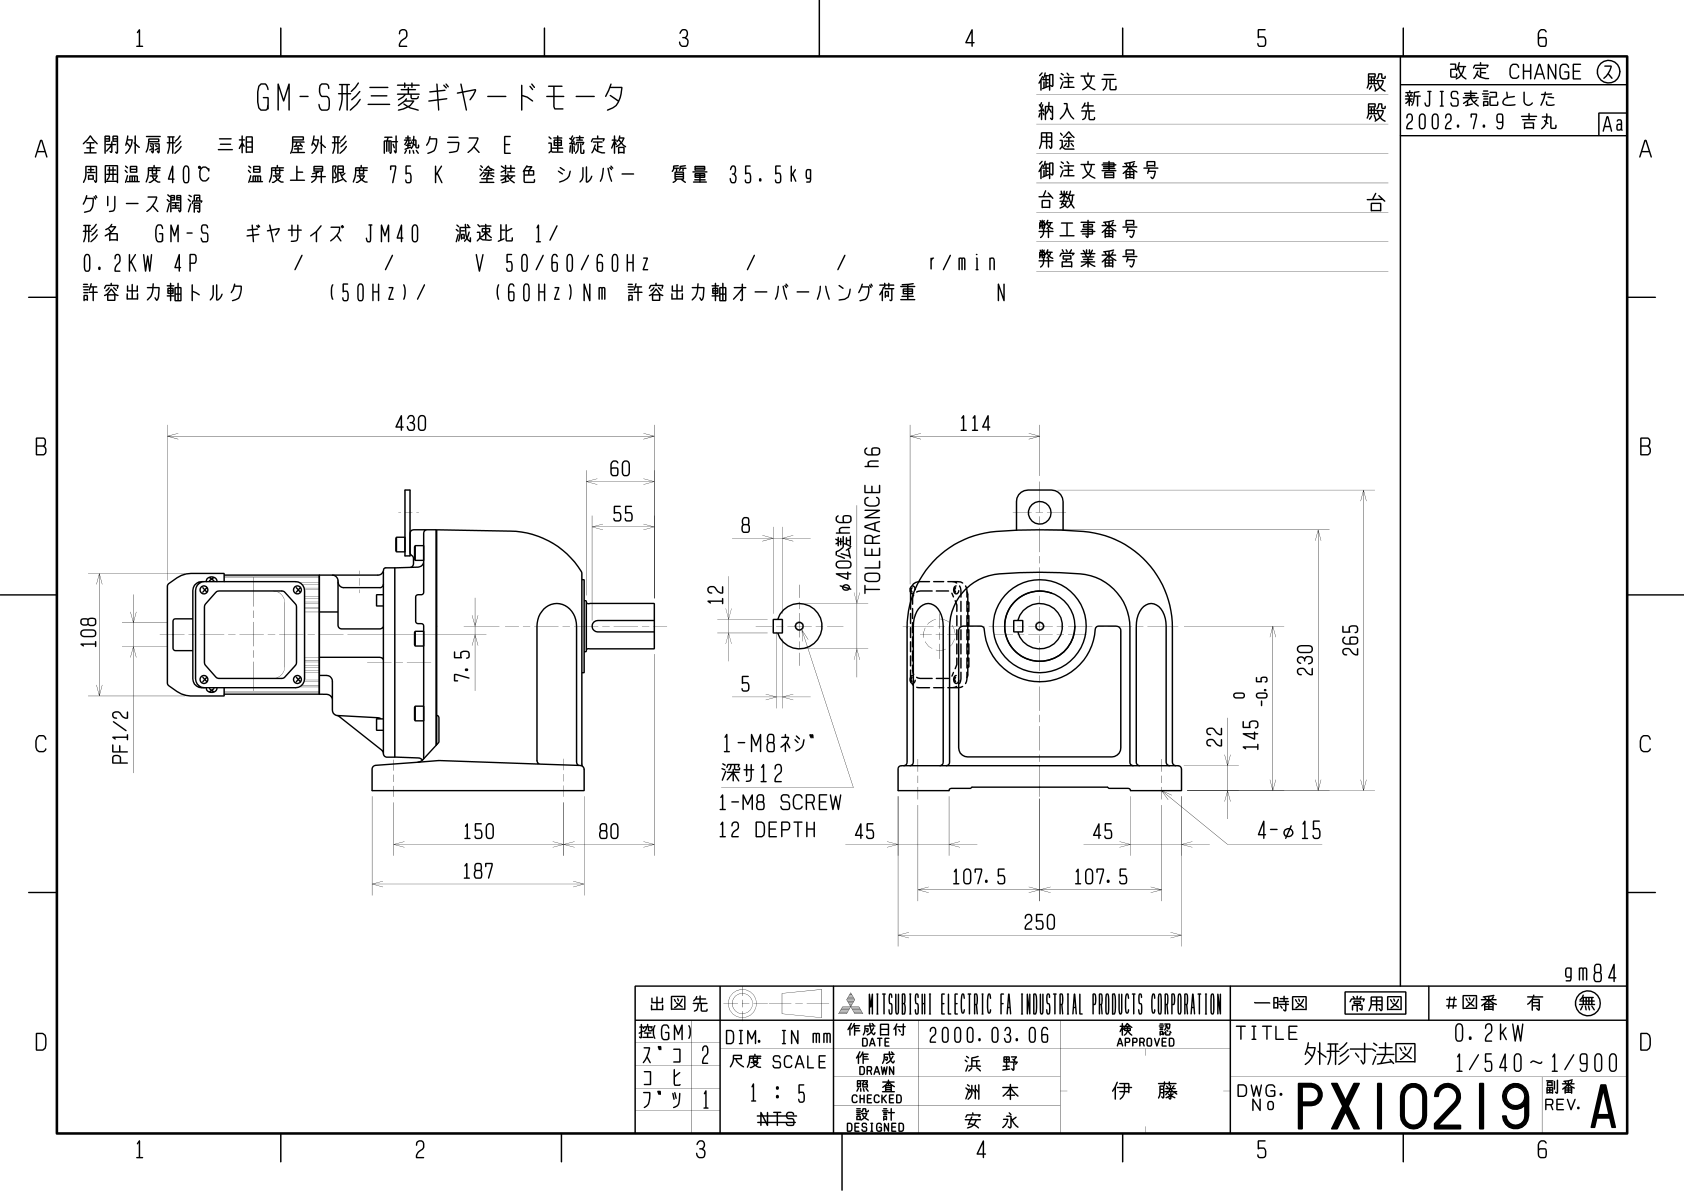GM_S_屋外＿三相_脚: (71, 371, 1393, 955)
